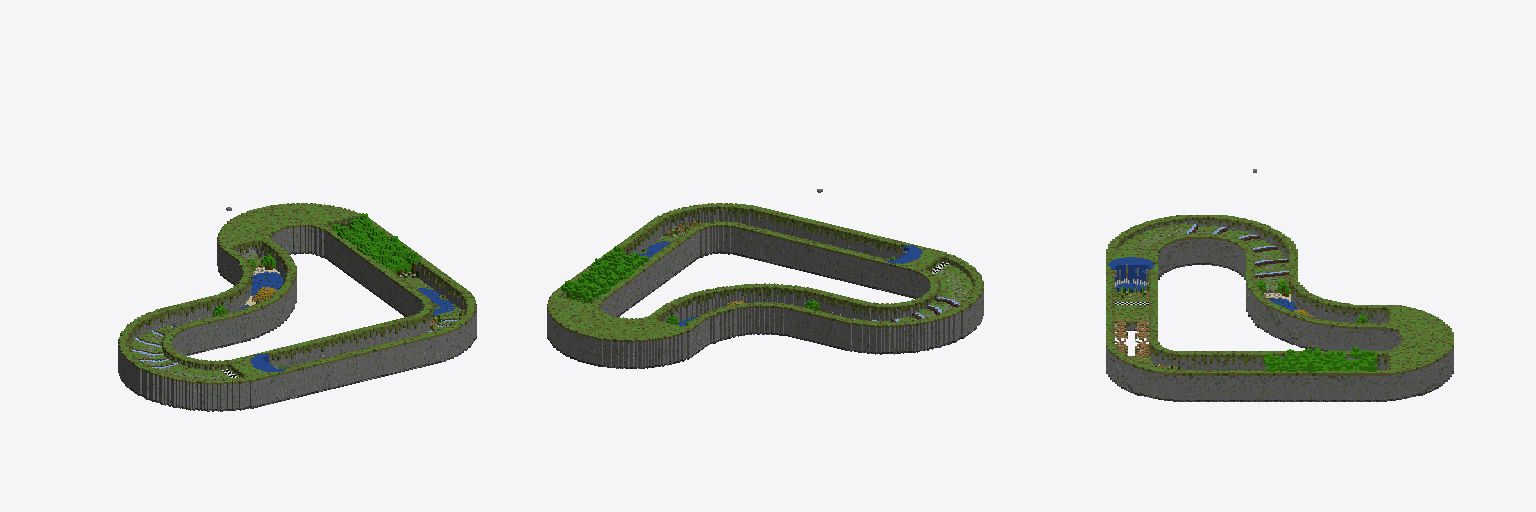
3 views of the same model, side by side, from view 1: azimuth 30°, elevation 25°; view 2: azimuth 150°, elevation 25°; view 3: azimuth 270°, elevation 25° (orthographic).
Size of the model in its own units: 166 by 65 by 154.
57 materials, 15 textured.